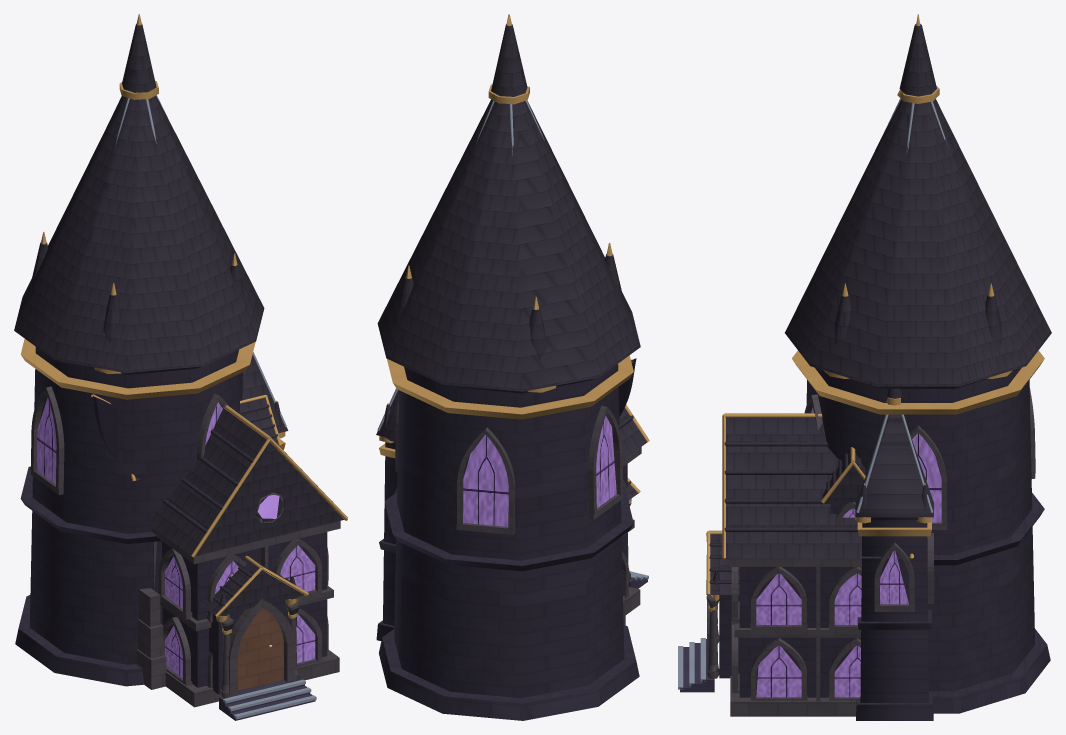
File: violetspire-tower-far.glb
The picture shows the model from 3 angles, left to right: view 1: azimuth 30°, elevation 25°; view 2: azimuth 150°, elevation 25°; view 3: azimuth 270°, elevation 25°; orthographic projection. The views are drawn at different scales.
Size of the model in its own units: 5.07 by 13.32 by 6.99.
Materials: 11 (11 with a texture image).
